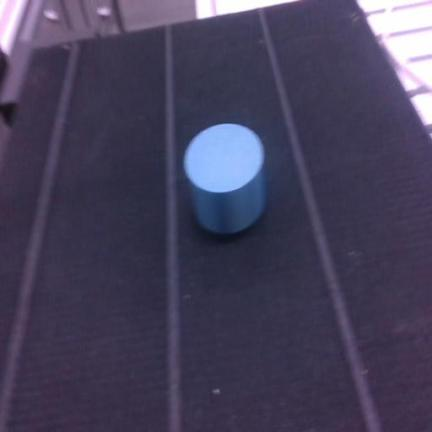cylinder: (184, 124, 264, 233)
